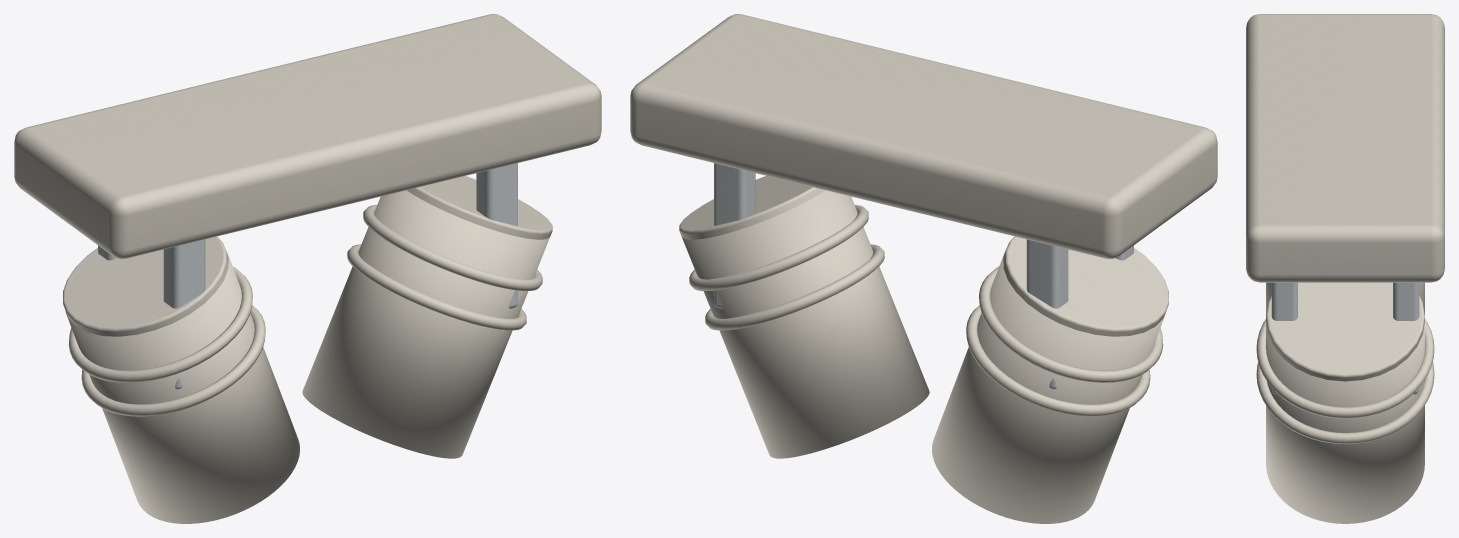
Rendered from twin-surface-spotlight.glb.
3 views of the same model, side by side, from view 1: azimuth 30°, elevation 25°; view 2: azimuth 150°, elevation 25°; view 3: azimuth 270°, elevation 25° (orthographic). The views are drawn at different scales.
Visible parts, largest first — view 1: Twin spot | mounting plate, Spot | open barrel.001, Spot | open barrel, Spot | rear cap, Spot | rear cap.001, Spot | cooling rib.001, Spot | cooling rib, Spot | cooling rib.002, Twin spot | fork arm, Spot | cooling rib.003, Twin spot | fork arm.002; view 2: Twin spot | mounting plate, Spot | open barrel.001, Spot | open barrel, Spot | rear cap, Spot | rear cap.001, Spot | cooling rib.001, Spot | cooling rib, Spot | cooling rib.002, Twin spot | fork arm.001, Spot | cooling rib.003, Twin spot | fork arm.003; view 3: Twin spot | mounting plate, Spot | open barrel.001, Spot | rear cap.001, Spot | cooling rib.003, Spot | cooling rib.002, Twin spot | fork arm.002, Twin spot | fork arm.003, Spot | open barrel.
Boxes of the visible parts, x1,y1,x2,y2 form: Twin spot | mounting plate: [14, 14, 601, 258]; Spot | open barrel.001: [302, 190, 549, 458]; Spot | open barrel: [65, 250, 299, 523]; Spot | rear cap: [63, 236, 228, 336]; Spot | rear cap.001: [407, 176, 552, 239]; Spot | cooling rib.001: [68, 266, 252, 382]; Spot | cooling rib: [81, 305, 265, 416]; Spot | cooling rib.002: [347, 244, 526, 330]; Twin spot | fork arm: [163, 239, 205, 389]; Spot | cooling rib.003: [363, 205, 542, 290]; Twin spot | fork arm.002: [476, 163, 517, 308]; Twin spot | mounting plate: [630, 14, 1217, 258]; Spot | open barrel.001: [682, 190, 929, 458]; Spot | open barrel: [932, 250, 1166, 523]; Spot | rear cap: [1003, 236, 1168, 336]; Spot | rear cap.001: [679, 176, 824, 239]; Spot | cooling rib.001: [979, 266, 1163, 382]; Spot | cooling rib: [966, 305, 1150, 416]; Spot | cooling rib.002: [705, 244, 884, 330]; Twin spot | fork arm.001: [1026, 239, 1068, 389]; Spot | cooling rib.003: [689, 205, 868, 290]; Twin spot | fork arm.003: [714, 163, 755, 308]; Twin spot | mounting plate: [1246, 14, 1444, 282]; Spot | open barrel.001: [1266, 322, 1424, 523]; Spot | rear cap.001: [1266, 282, 1424, 381]; Spot | cooling rib.003: [1256, 319, 1434, 418]; Spot | cooling rib.002: [1256, 362, 1434, 444]; Twin spot | fork arm.002: [1271, 282, 1297, 394]; Twin spot | fork arm.003: [1393, 282, 1419, 394]; Spot | open barrel: [1266, 282, 1424, 314].
Size of the model in its own units: 0.276 by 0.1983 by 0.105.
3 materials, 3 textured.
